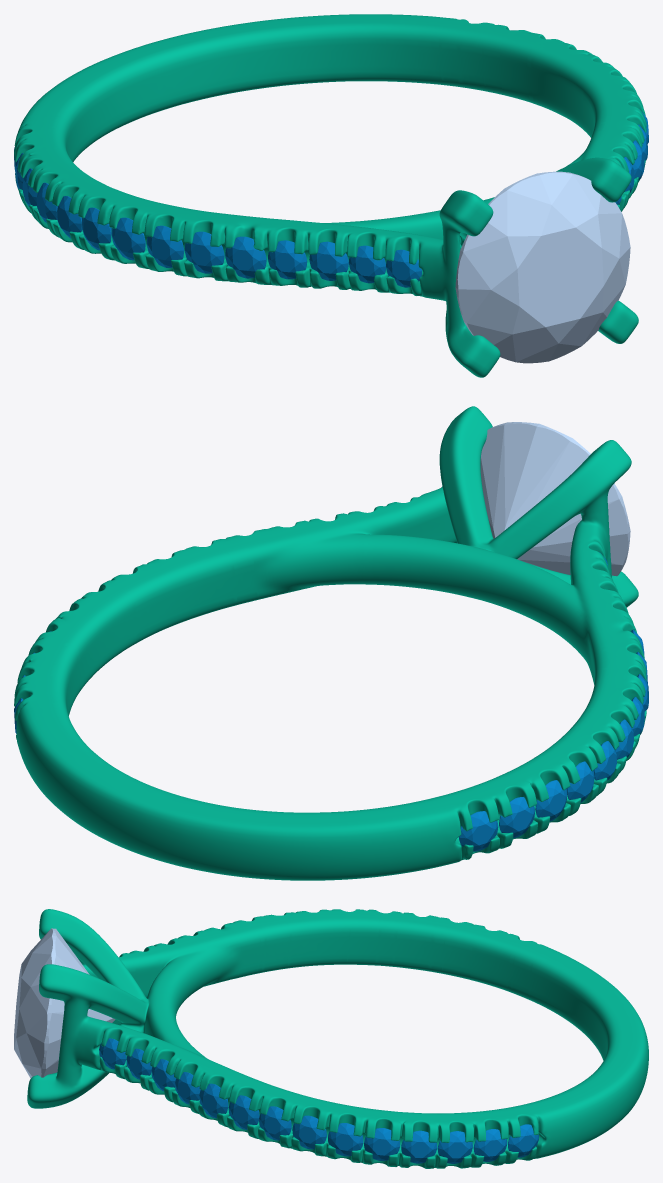
The picture shows the model from 3 angles, top to bottom: view 1: azimuth 30°, elevation 25°; view 2: azimuth 150°, elevation 25°; view 3: azimuth 270°, elevation 25°; orthographic projection. The views are drawn at different scales.
Visible parts, largest first — view 1: 1C.3dm, Diamond_Round (×5), Gem On Curve Advanced Gem (×6); view 2: 1C.3dm, Diamond_Round, Gem On Curve Advanced Gem (×4); view 3: 1C.3dm, Diamond_Round (×5), Gem On Curve Advanced Gem (×10).
Part boxes in pixels (x1,y1,x2,y2): 1C.3dm: (14, 14, 646, 377); Diamond_Round (×5): (268, 171, 630, 363); Gem On Curve Advanced Gem (×6): (56, 196, 266, 278); 1C.3dm: (14, 406, 646, 880); Diamond_Round: (480, 422, 630, 576); Gem On Curve Advanced Gem (×4): (458, 761, 594, 851); 1C.3dm: (27, 909, 648, 1168); Diamond_Round (×5): (14, 928, 200, 1104); Gem On Curve Advanced Gem (×10): (199, 1083, 538, 1163).
Bounding box in the file's own units: 2.48 × 0.7752 × 3.04.
